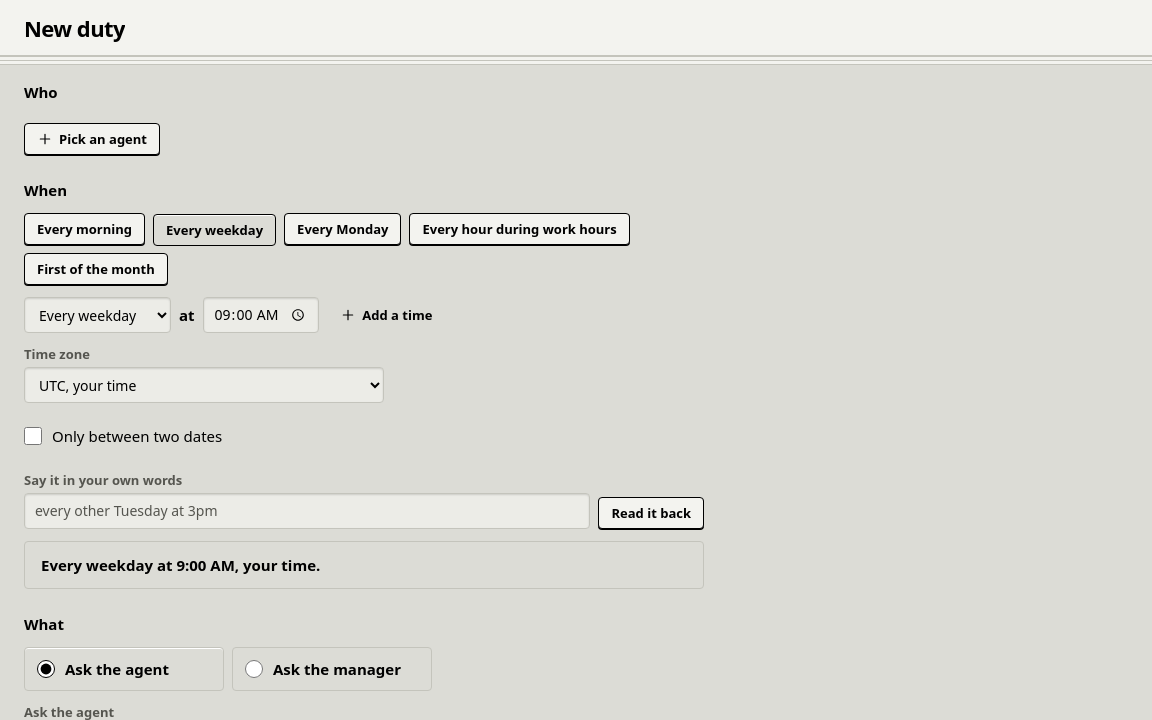
Scenario: the editor of a duty › puts the hint of each field behind its question mark
Click the radio button labelled "Ask the manager" at (254, 669), box x1=245 y1=660 x2=263 y2=678
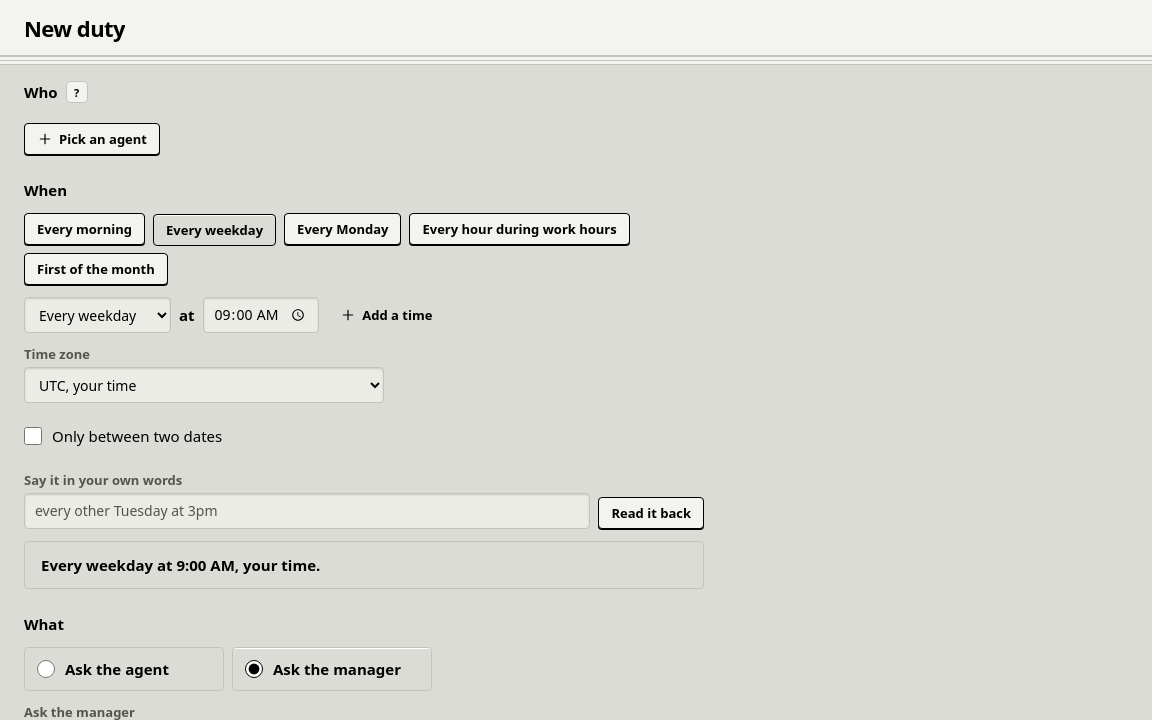
Click the button with class "help-key" at (77, 92), box x1=66 y1=81 x2=88 y2=103
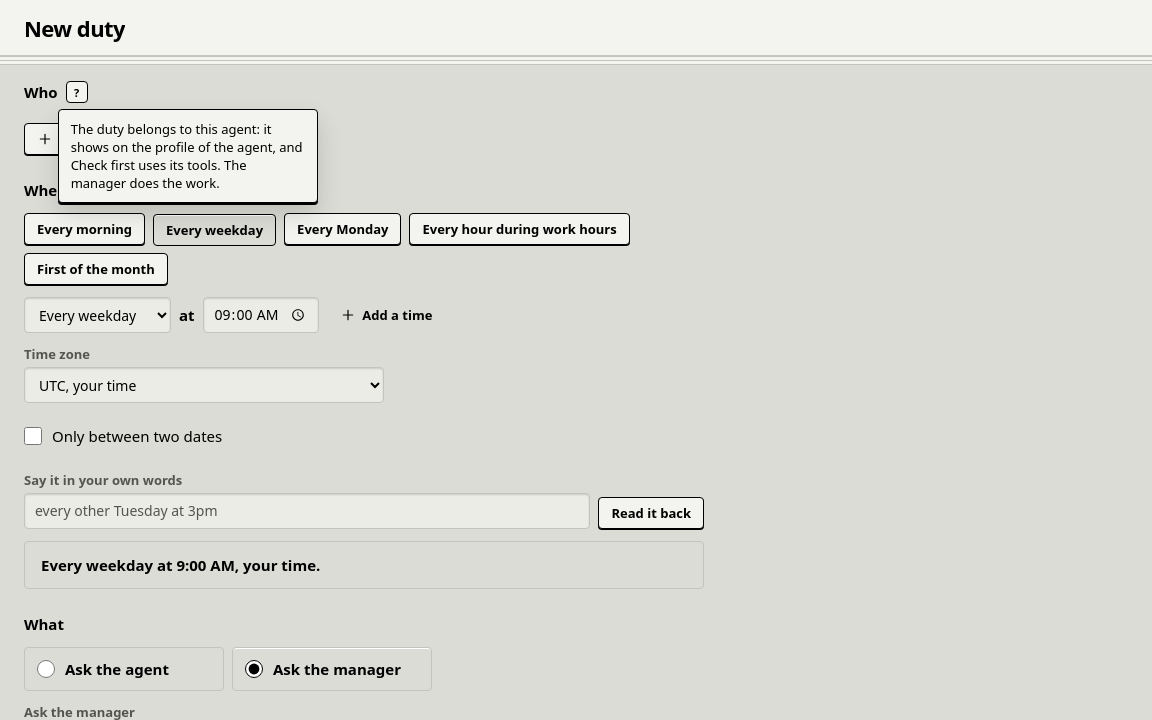
expect the text with class "help-pop" shows "The manager does the work.": met, box x1=71 y1=120 x2=303 y2=192
